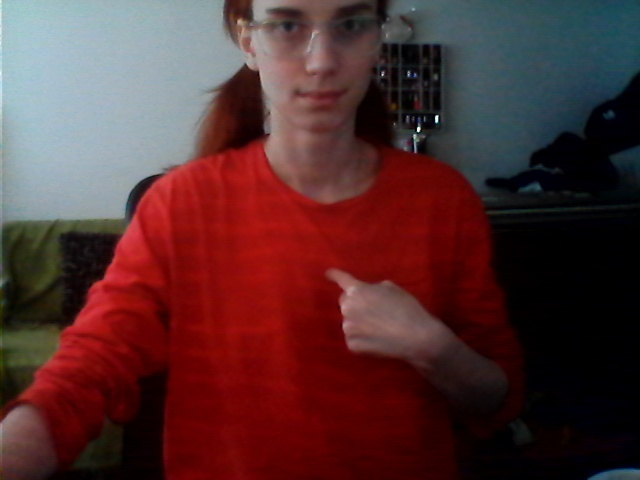ja: (306, 243, 454, 375)
